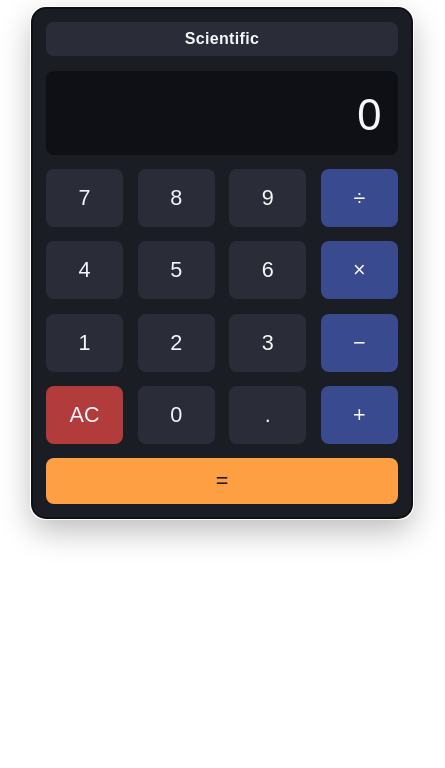
Test: REQ-1 / REQ-2 / REQ-3 / REQ-4 / REQ-5 / REQ-6 / REQ-7 / REQ-8: scientific button panel (step 7) › after toggling, each of the 11 scientific buttons is reachable via getByRole
The width and height of the screenshot is (445, 768).
Click the button "Scientific": (222, 39) [46, 22, 398, 56]
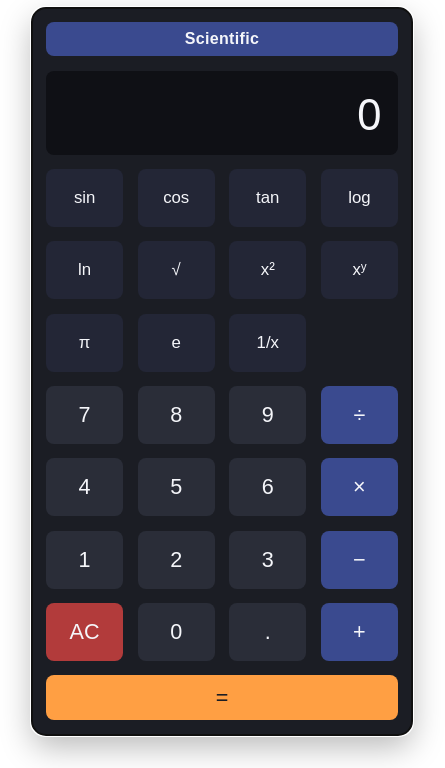
Expected: the button "sin" is shown, [46, 169, 123, 227]
Expected: the button "cos" is shown, [138, 169, 215, 227]
Expected: the button "tan" is shown, [229, 169, 306, 227]
